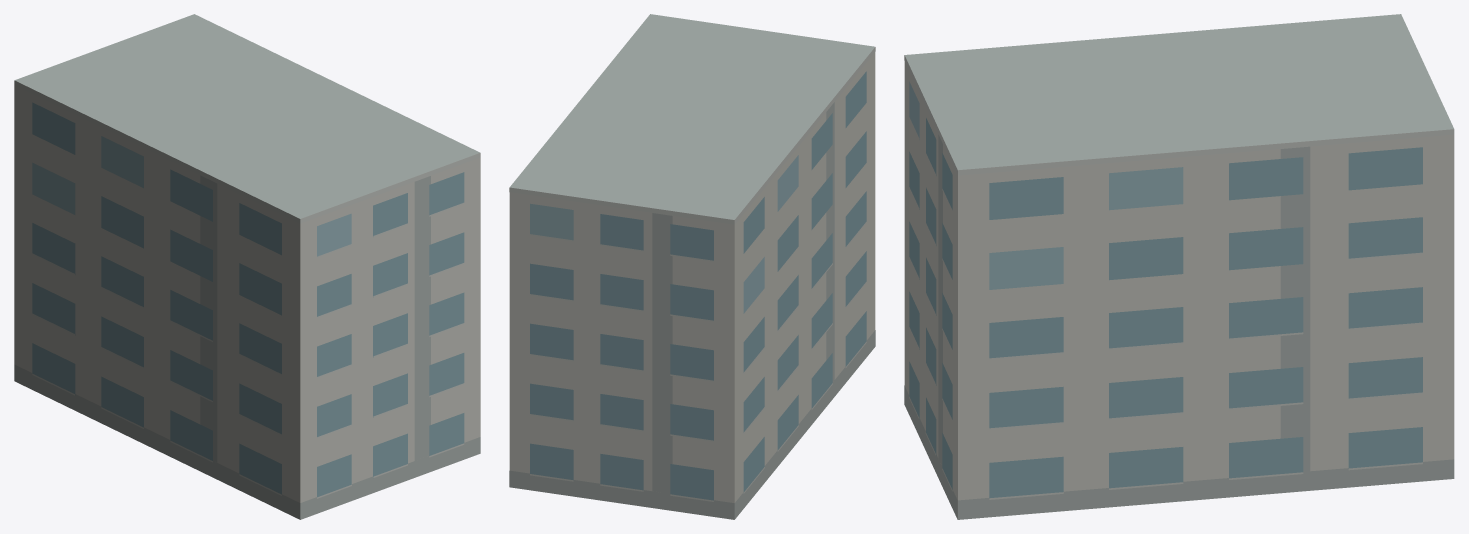
File: residential-d07b955c-dcf5-4991-86dc-68f21f396459.glb
3 renders of one model, left to right at view 1: azimuth 30°, elevation 25°; view 2: azimuth 150°, elevation 25°; view 3: azimuth 270°, elevation 25°, orthographic. The views are drawn at different scales.
Visible parts, largest first — view 1: residential-d07b955c-dcf5-4991-86dc-68f21f396459.tmp; view 2: residential-d07b955c-dcf5-4991-86dc-68f21f396459.tmp; view 3: residential-d07b955c-dcf5-4991-86dc-68f21f396459.tmp.
Part boxes in pixels (left/top/right/bottom): residential-d07b955c-dcf5-4991-86dc-68f21f396459.tmp: left=14, top=14, right=480, bottom=519; residential-d07b955c-dcf5-4991-86dc-68f21f396459.tmp: left=509, top=14, right=875, bottom=519; residential-d07b955c-dcf5-4991-86dc-68f21f396459.tmp: left=904, top=14, right=1454, bottom=519.
Size of the model in its own units: 14.62 by 15.25 by 21.74.
